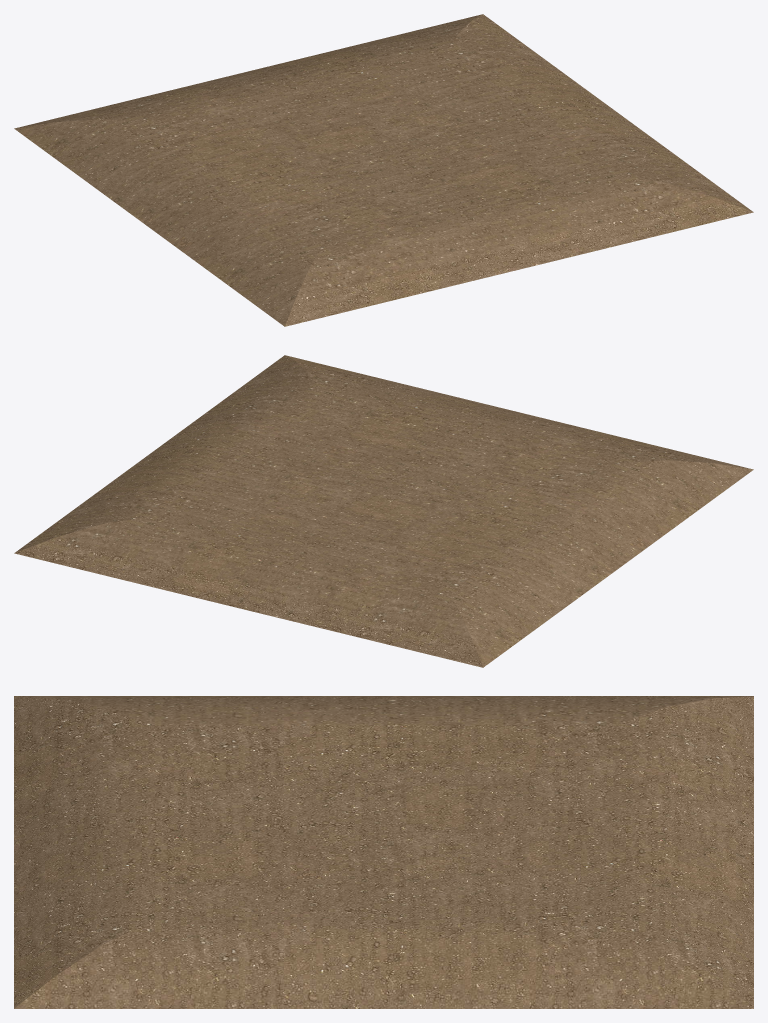
Rendered from farm land.fbx.
3 renders of one model, top to bottom at view 1: azimuth 30°, elevation 25°; view 2: azimuth 150°, elevation 25°; view 3: azimuth 270°, elevation 25°, orthographic. The views are drawn at different scales.
Visible parts, largest first — view 1: pPlane29; view 2: pPlane29; view 3: pPlane29.
Boxes of the visible parts, <box> form: pPlane29: <box>14,14,753,326</box>; pPlane29: <box>14,355,753,667</box>; pPlane29: <box>14,696,753,1008</box>.
Size of the model in its own units: 683 by 30.08 by 683.
1 material, 1 textured.
